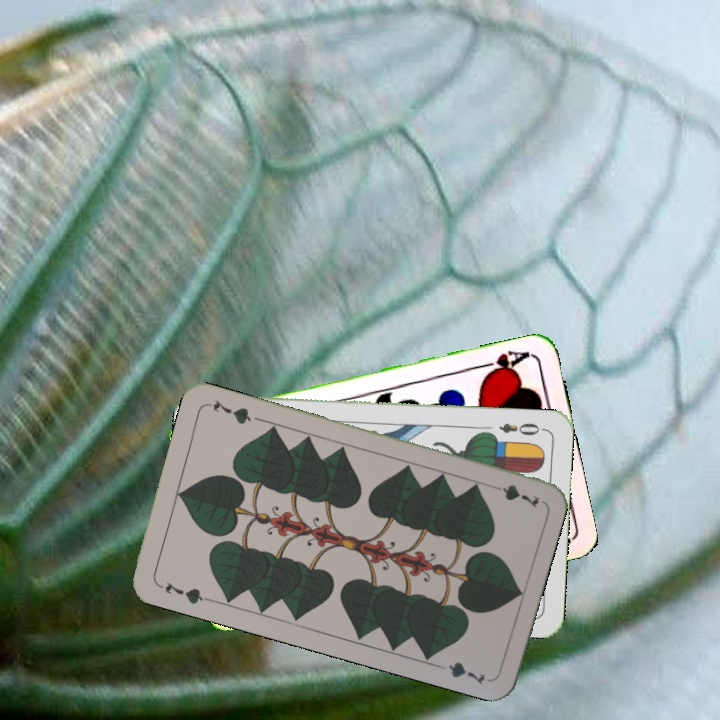EO: (495, 418, 547, 439)
G7: (484, 480, 543, 511), (154, 578, 212, 607)
HA: (474, 346, 532, 380)
